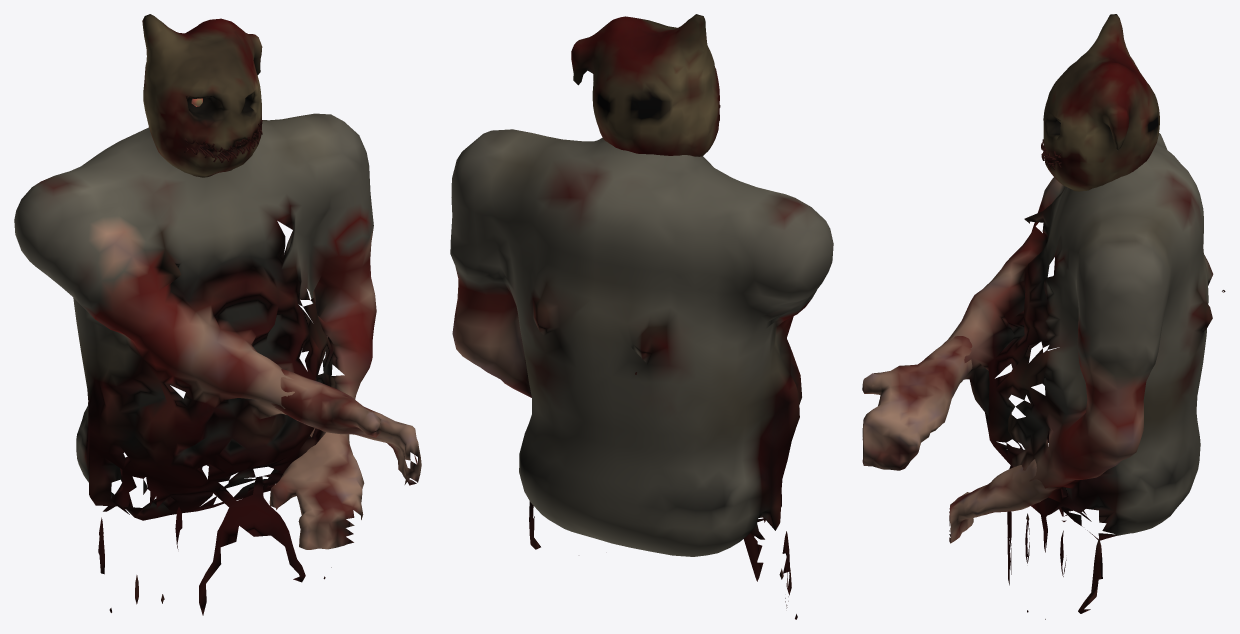
Rendered from butcher_body_xlo.glb.
3 views of the same model, side by side, from view 1: azimuth 30°, elevation 25°; view 2: azimuth 150°, elevation 25°; view 3: azimuth 270°, elevation 25° (orthographic). The views are drawn at different scales.
Parts seen in each view (by area): view 1: butcher_body; view 2: butcher_body; view 3: butcher_body.
Part boxes in pixels (x1=…): butcher_body: x1=14, y1=14, x2=421, y2=615; butcher_body: x1=450, y1=14, x2=833, y2=619; butcher_body: x1=862, y1=14, x2=1225, y2=619.
Size of the model in its own units: 0.8935 by 1.39 by 0.8476.
